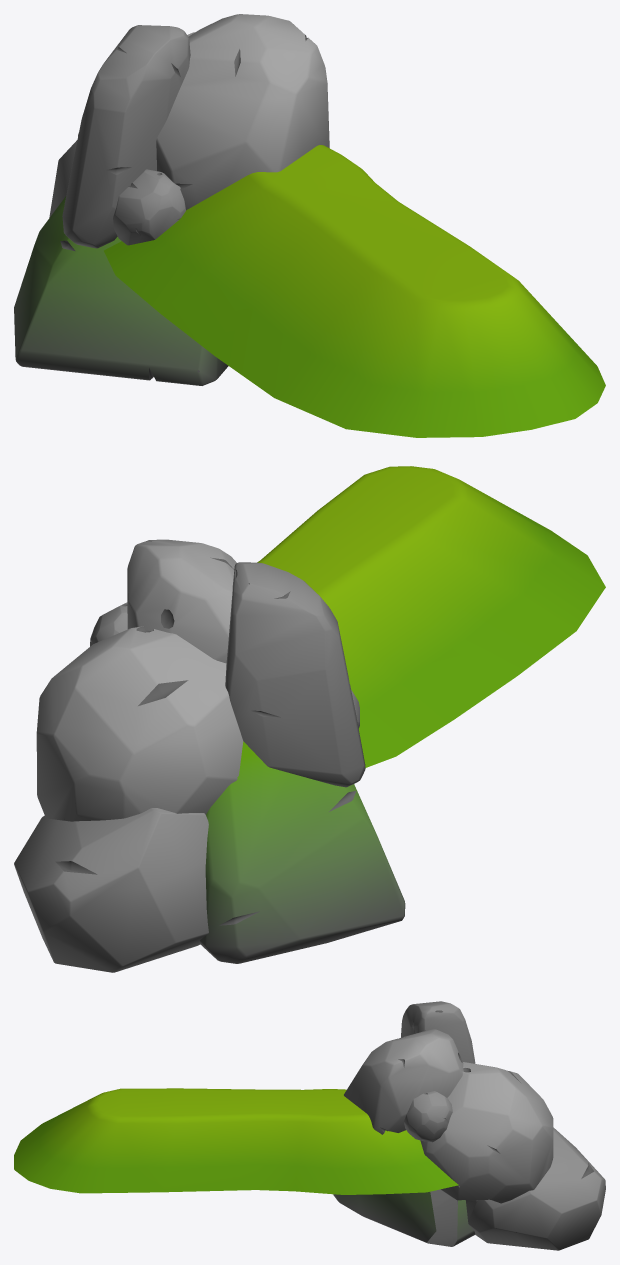
File: RiverFall02Bank02.fbx
3 views of the same model, one above another, from view 1: azimuth 30°, elevation 25°; view 2: azimuth 150°, elevation 25°; view 3: azimuth 270°, elevation 25° (orthographic). The views are drawn at different scales.
Parts seen in each view (by area): view 1: LOD0; view 2: LOD0; view 3: LOD0.
Part boxes in pixels (<box>): LOD0: <box>14,14,605,437</box>; LOD0: <box>14,466,605,972</box>; LOD0: <box>14,1001,605,1250</box>.
Size of what is drawn, in the model's own units: 467 by 1074 by 425.
